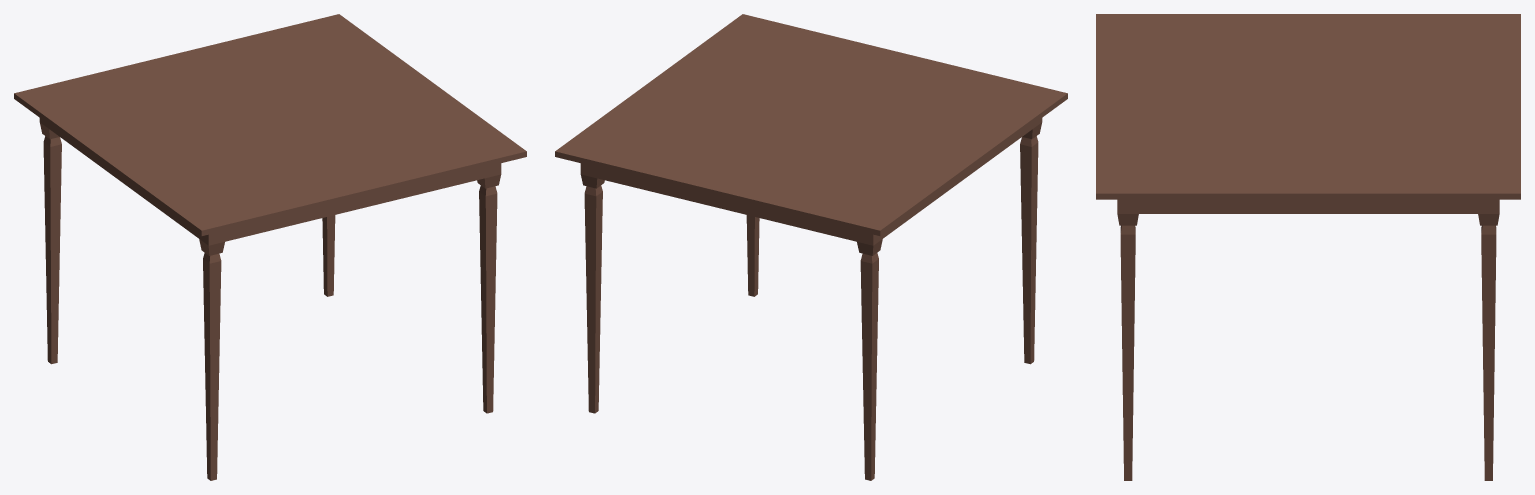
Rendered from Table by Zoe XR - 6K7cCtQAkY0.glb.
3 views of the same model, side by side, from view 1: azimuth 30°, elevation 25°; view 2: azimuth 150°, elevation 25°; view 3: azimuth 270°, elevation 25° (orthographic). The views are drawn at different scales.
Visible parts, largest first — view 1: group806457874; view 2: group806457874; view 3: group806457874.
Boxes of the visible parts, <box> form: group806457874: <box>14,14,526,480</box>; group806457874: <box>555,14,1067,480</box>; group806457874: <box>1096,14,1520,480</box>.
Bounding box in the file's own units: 4.52 × 3.51 × 4.52.
